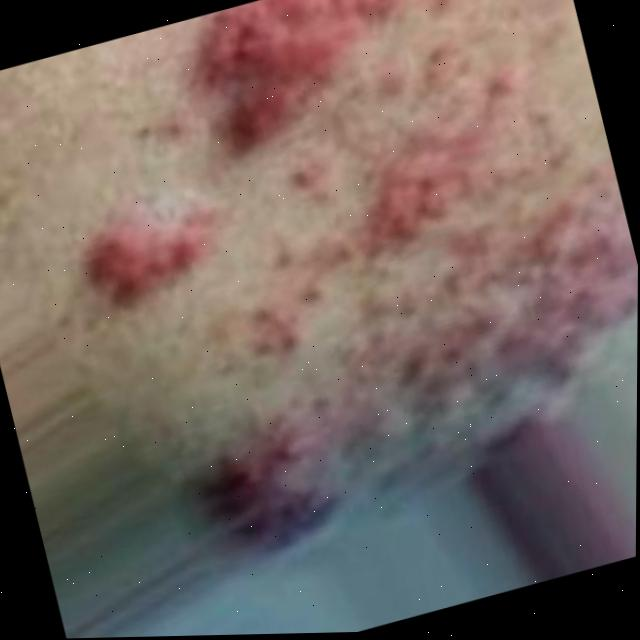Shingles: (288, 133, 639, 443), (208, 0, 432, 122), (179, 423, 328, 554), (81, 171, 214, 291)
